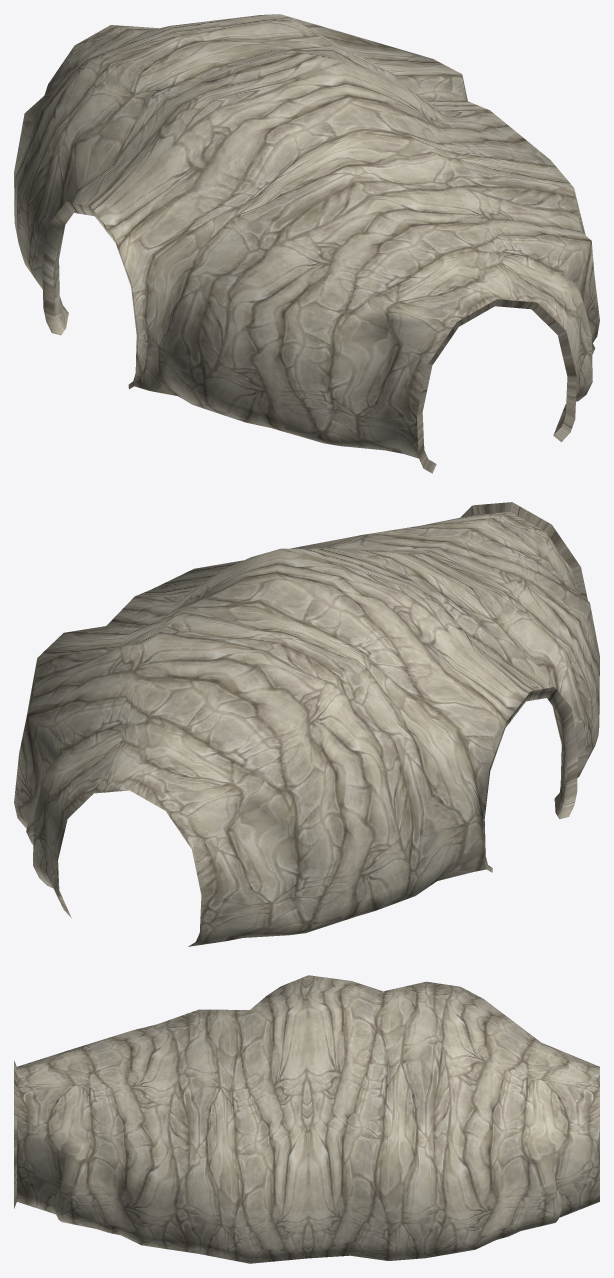
Rendered from cave ceiling large.FBX.
The picture shows the model from 3 angles, top to bottom: view 1: azimuth 30°, elevation 25°; view 2: azimuth 150°, elevation 25°; view 3: azimuth 270°, elevation 25°; orthographic projection. The views are drawn at different scales.
Parts seen in each view (by area): view 1: cave ceiling large; view 2: cave ceiling large; view 3: cave ceiling large.
Part boxes in pixels (box(x1,y1,x2,y2)): cave ceiling large: box(14, 14, 599, 473); cave ceiling large: box(14, 502, 599, 946); cave ceiling large: box(14, 975, 599, 1263).
Bounding box in the file's own units: 53.93 × 28.06 × 80.4.
